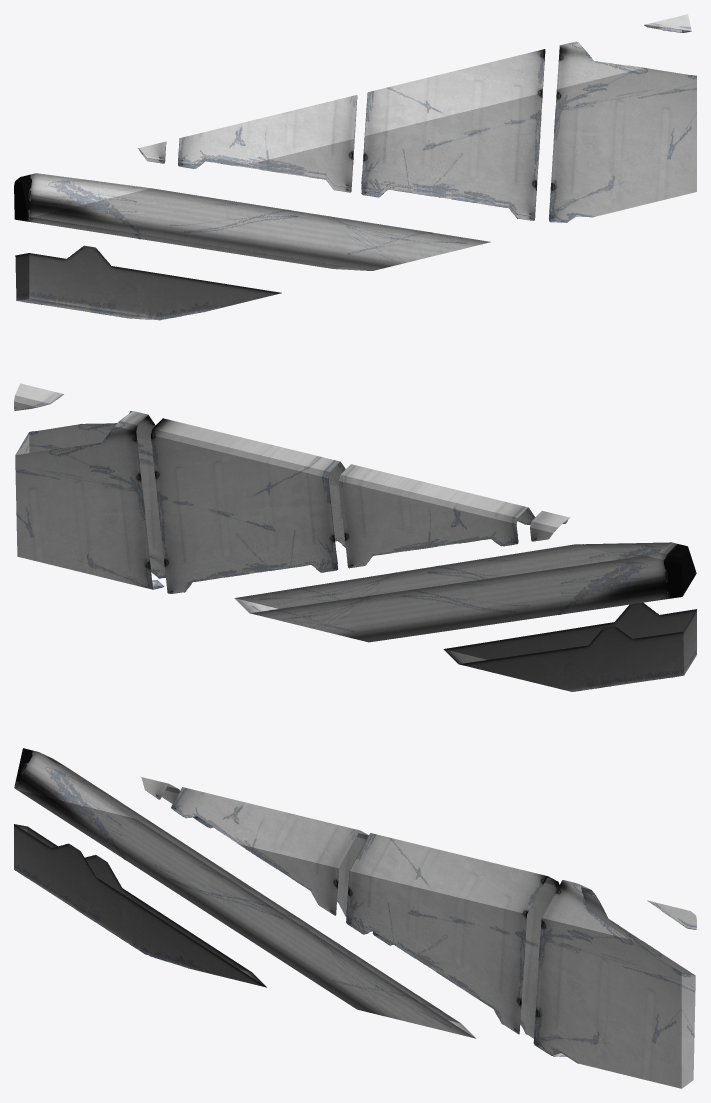
Rendered from handrail_pbox.obj.
The picture shows the model from 3 angles, top to bottom: view 1: azimuth 30°, elevation 25°; view 2: azimuth 150°, elevation 25°; view 3: azimuth 330°, elevation 25°; orthographic projection.
Parts seen in each view (by area): view 1: Cube.008_Cube.022; view 2: Cube.008_Cube.022; view 3: Cube.008_Cube.022.
Part boxes in pixels (left/top/right/bottom): Cube.008_Cube.022: left=14, top=14, right=696, bottom=320; Cube.008_Cube.022: left=14, top=383, right=696, bottom=691; Cube.008_Cube.022: left=14, top=748, right=696, bottom=1088.
Bounding box in the file's own units: 4.08 × 1 × 0.1607.
